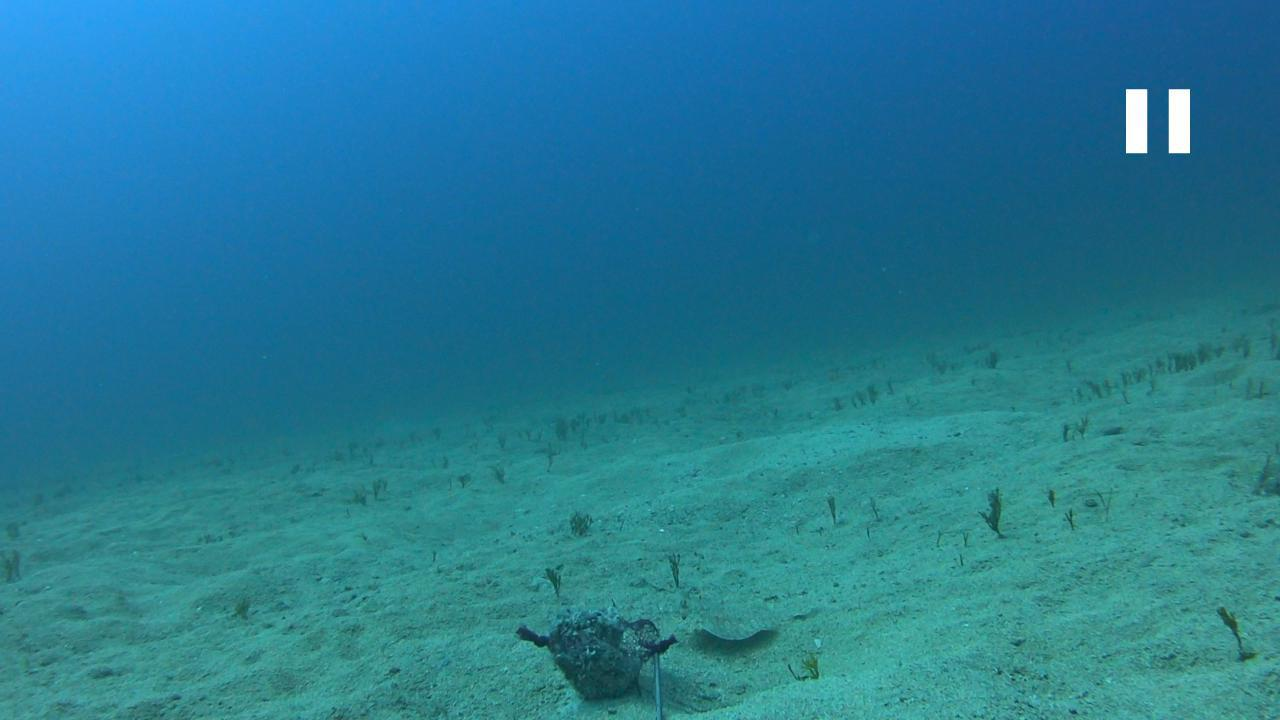bothus: (667, 588, 824, 645)
